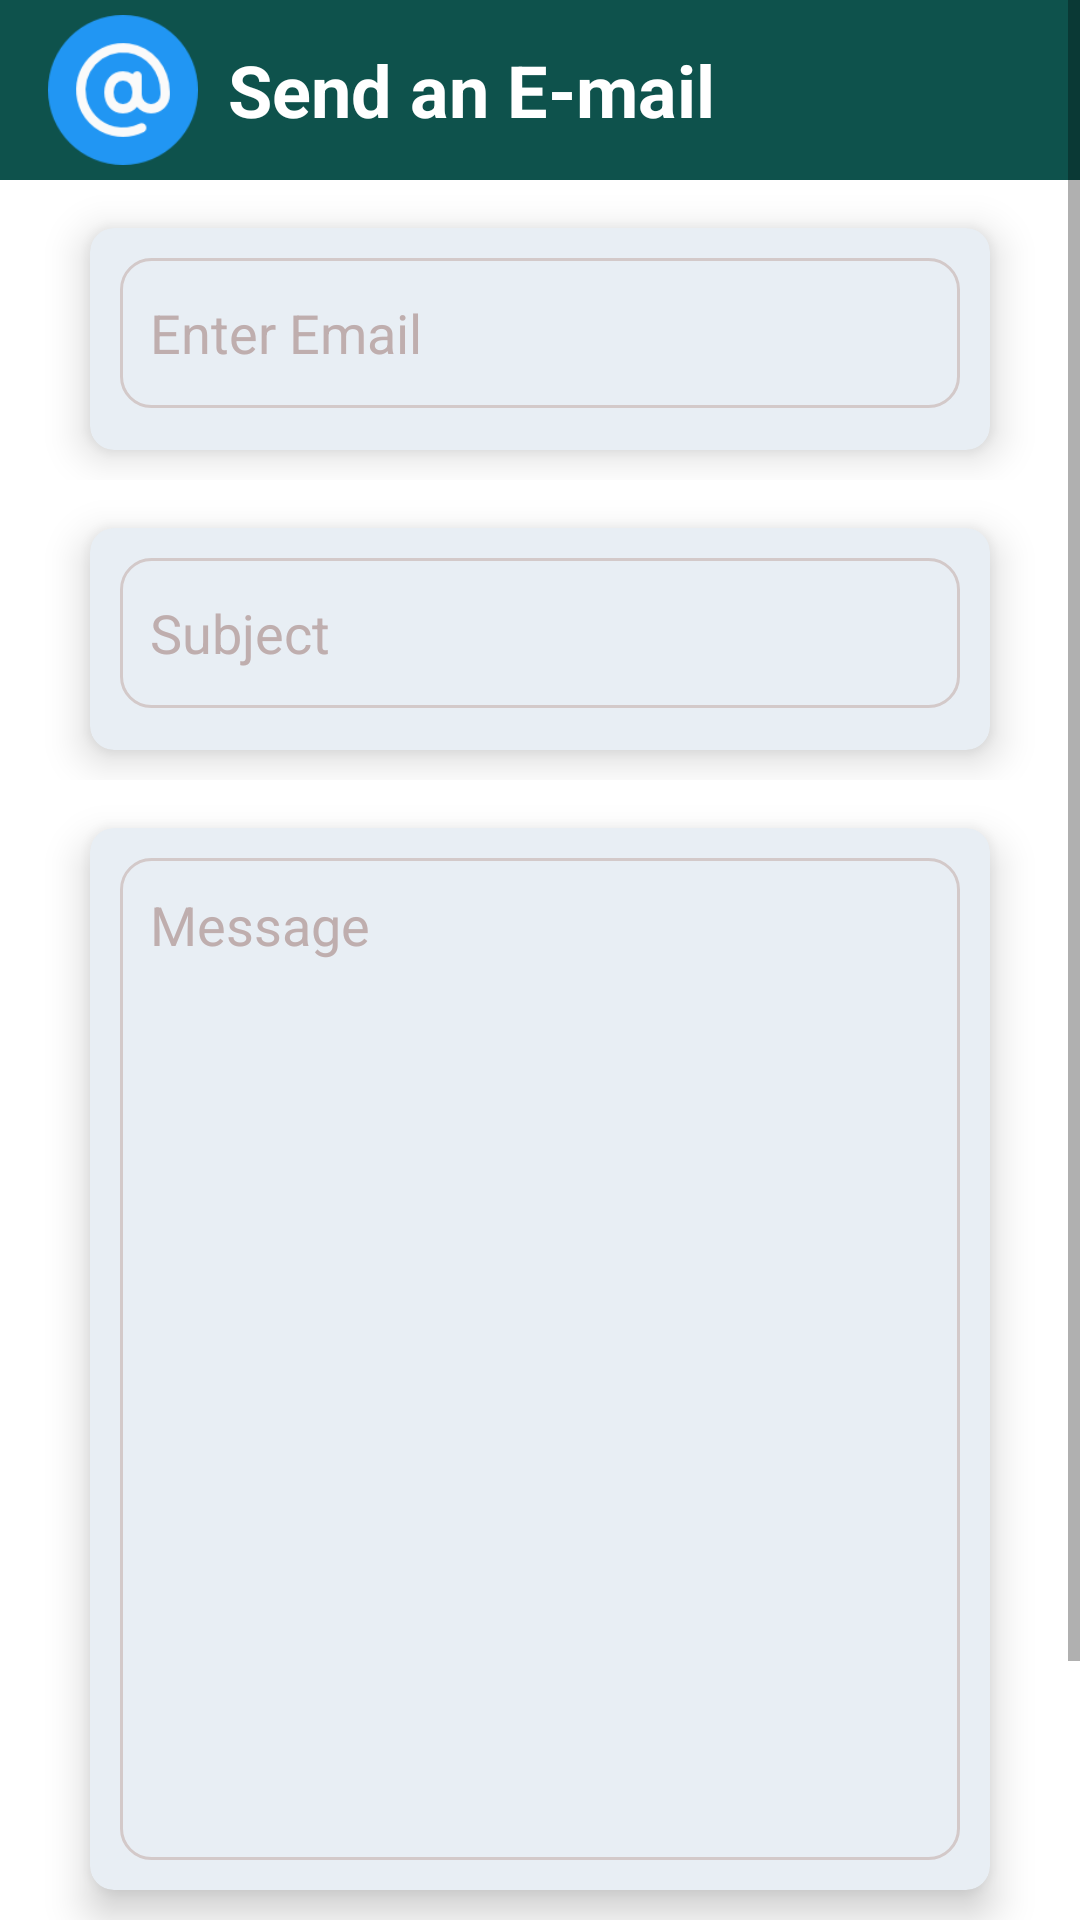

Icons on this 1080 × 1920 Android screen, each with the point to tap as (x,y):
emailicon: (123,90)
